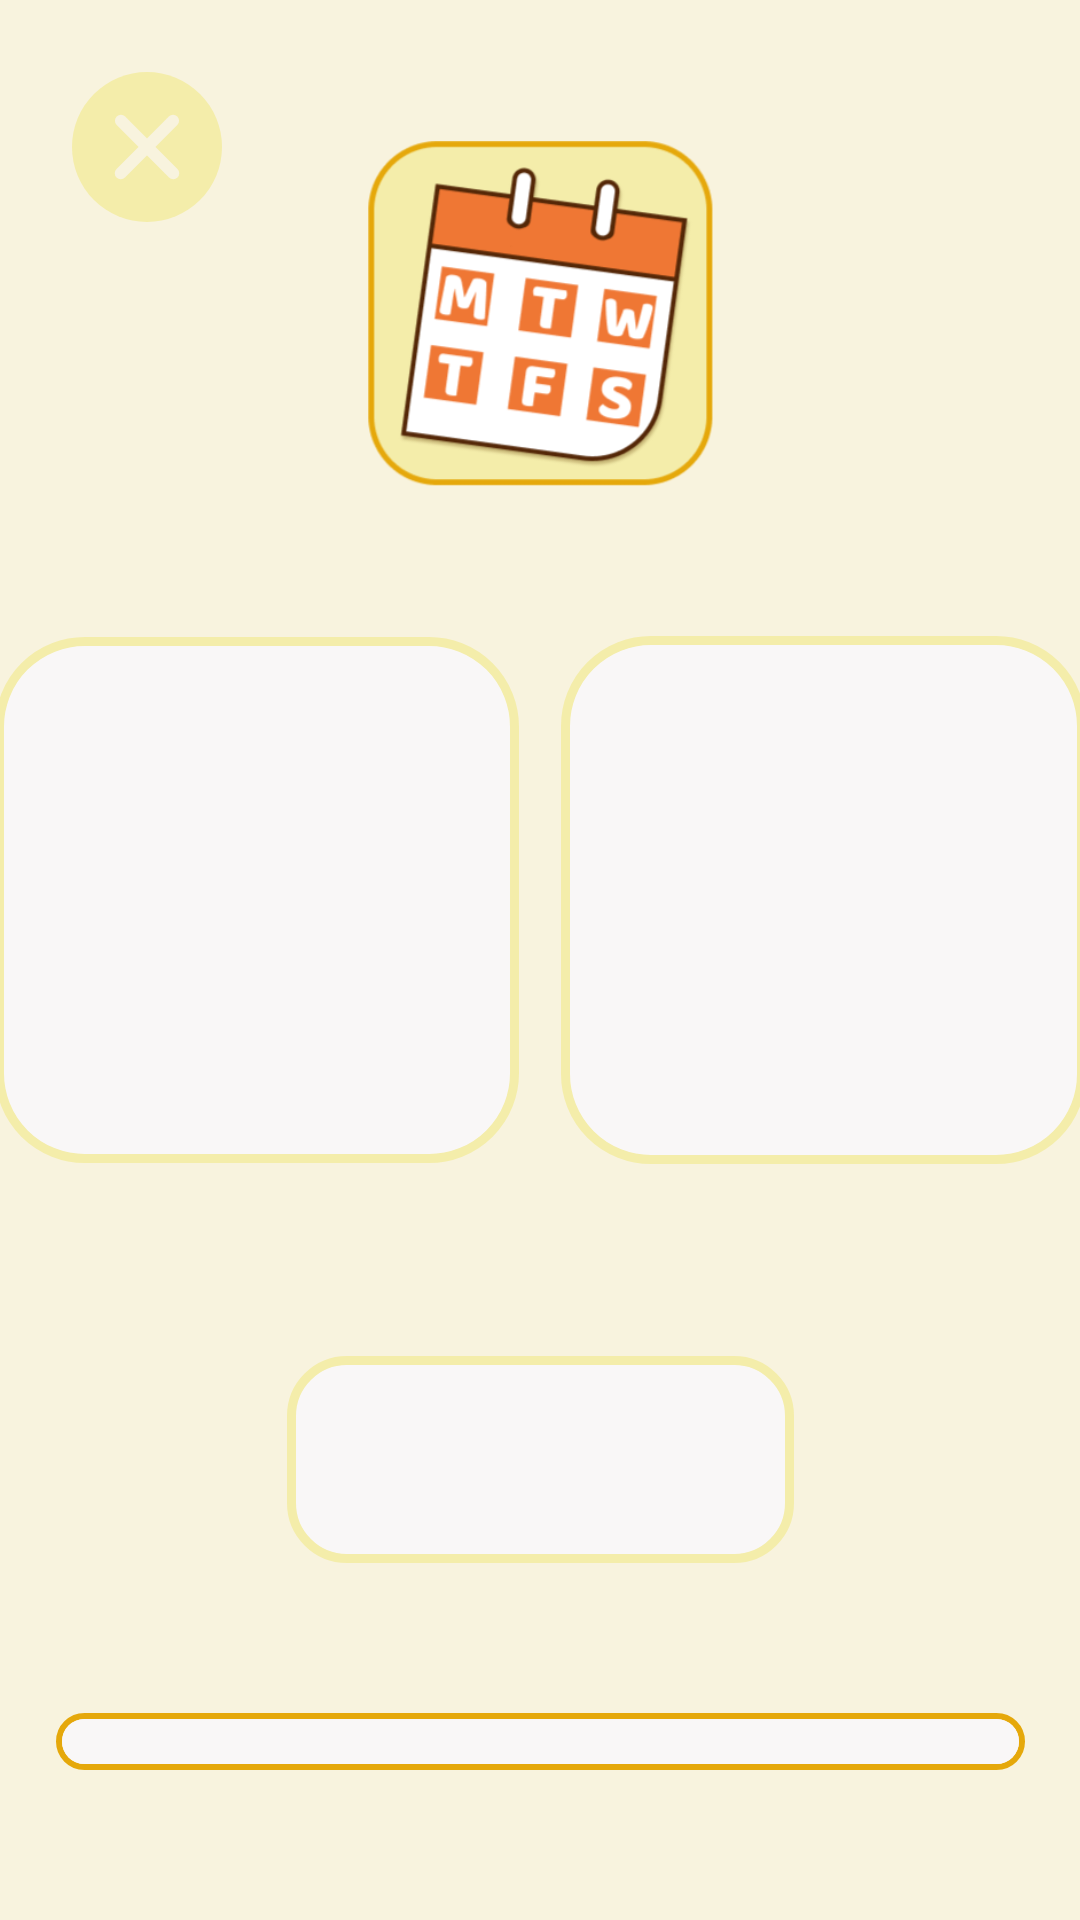

Icons on this 1080 × 1920 Android screen, each with its box as region(x1, y1, x2, y2):
timegameexit: region(72, 72, 222, 222)
timegameicon: region(368, 141, 713, 486)
